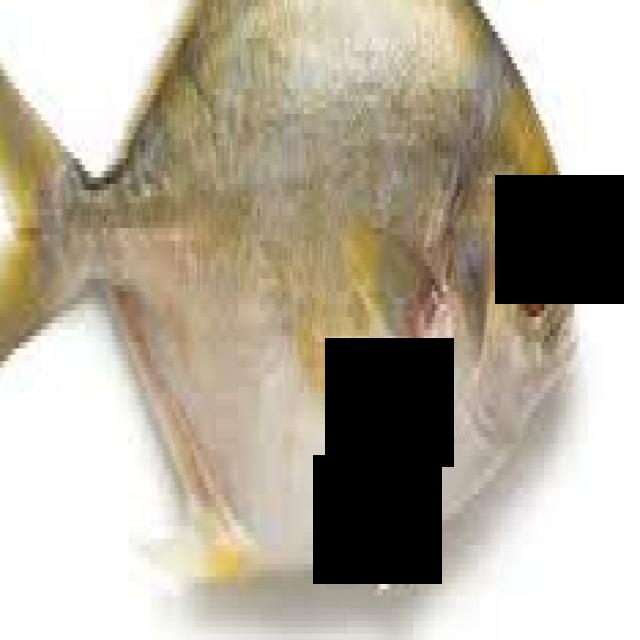fish: (2, 6, 640, 639)
